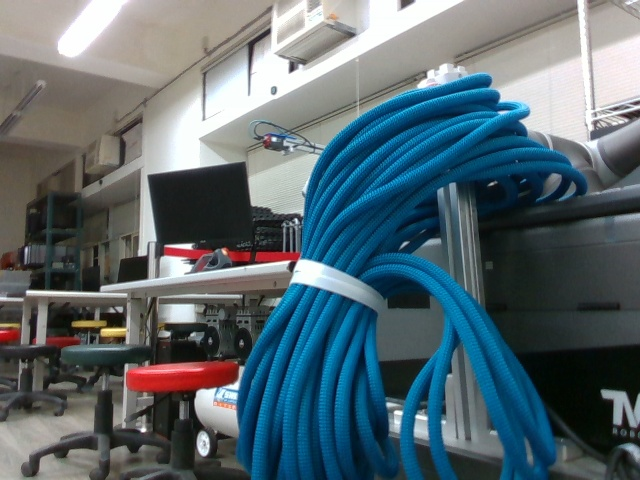rope: (231, 73, 557, 480)
